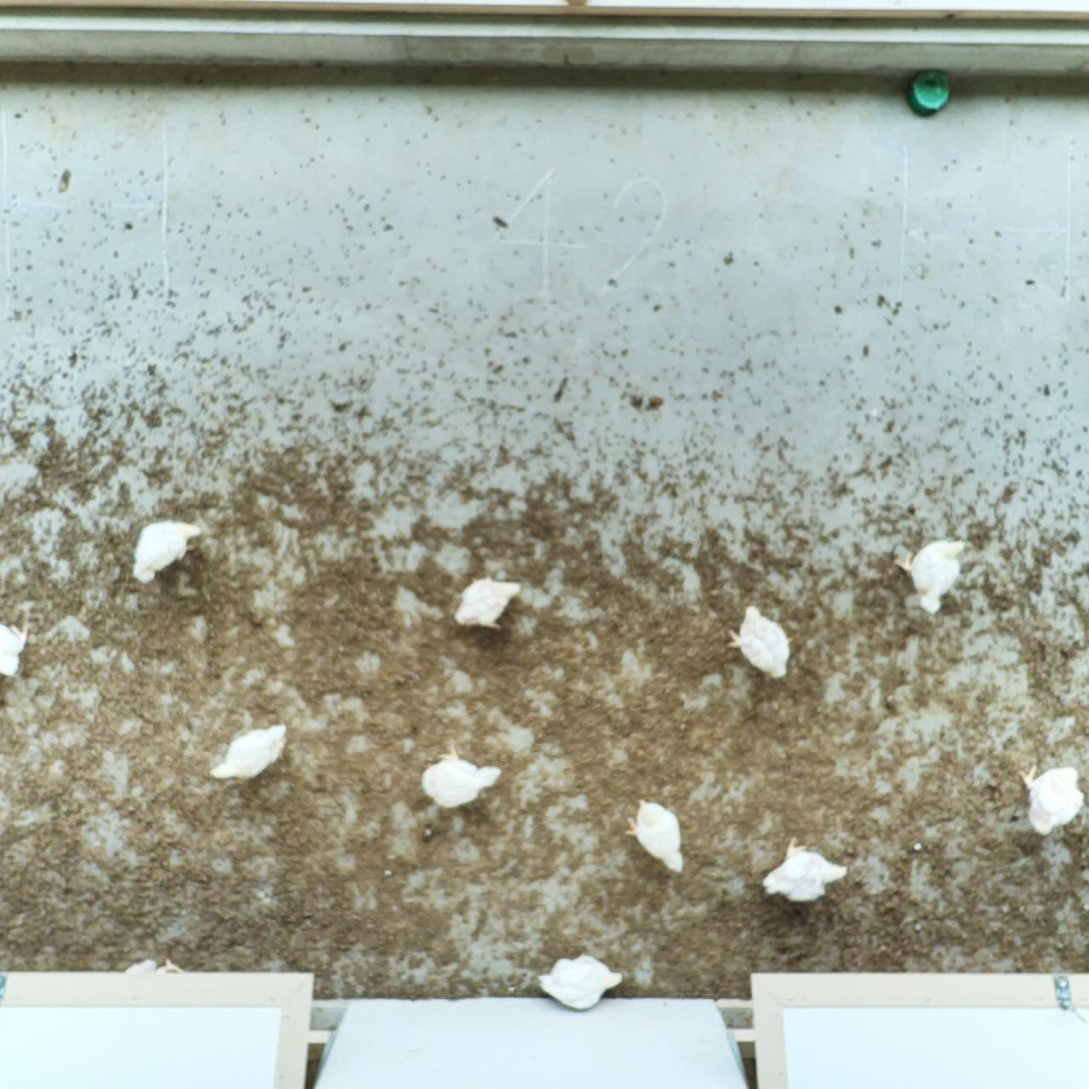chicken: (889, 536, 973, 618), (757, 834, 850, 906), (1013, 757, 1088, 840), (417, 740, 503, 810), (722, 602, 796, 682), (207, 719, 292, 788), (535, 950, 625, 1015), (622, 795, 688, 880), (128, 517, 205, 585), (450, 570, 525, 634), (0, 616, 35, 682)
